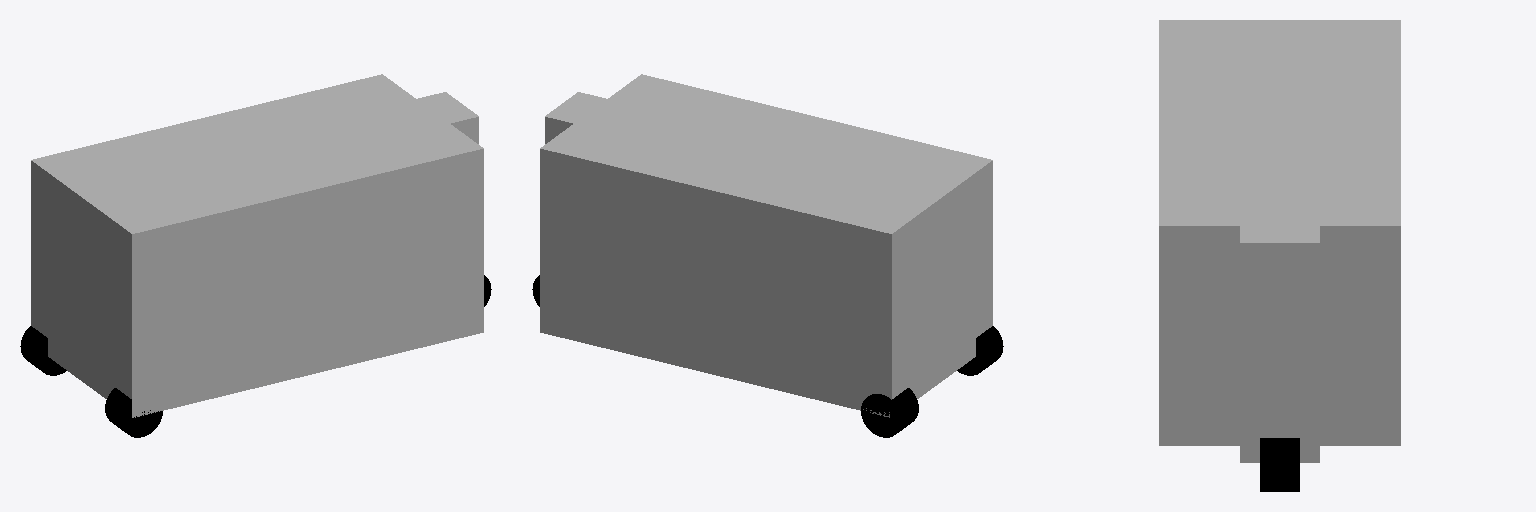
URDF robot description (tortoisebot):
<?xml version="1.0"?>
<robot name="tortoisebot">
<link name="base_link">
    <visual>
      <geometry>
        <box size="0.6 0.3 0.3"/>
      </geometry>
      <material name="silver">
        <color rgba="0.75 0.75 0.75 1"/>
      </material>
    </visual>
    <collision>
      <geometry>
        <box size="0.6 0.3 0.3"/>
      </geometry>
    </collision>
    <inertial>
      <mass value="1.0"/>
      <inertia ixx="0.015" iyy="0.0375" izz="0.0375" ixy="0" ixz="0" iyz="0"/>
    </inertial>
  </link>
 <link name="front_caster">
    <visual>
      <geometry>
        <box size="0.1 0.1 0.3"/>
      </geometry>
      <material name="silver"/>
    </visual>
    <collision>
      <geometry>
        <box size="0.1 0.1 0.3"/>
      </geometry>
    </collision>
    <inertial>
      <mass value="0.1"/>
      <inertia ixx="0.00083" iyy="0.00083" izz="0.000167" ixy="0" ixz="0" iyz="0"/>
    </inertial>
  </link>

<joint name="front_caster_joint" type="continuous">
<axis xyz="0 0 1"/>
<parent link="base_link"/>
<child link="front_caster"/>
<origin rpy="0 0 0" xyz="0.3 0 0"/>
</joint>

 <link name="front_wheel">
    <visual>
      <geometry>
        <cylinder length="0.05" radius="0.035"/>
      </geometry>
      <material name="black"/>
    </visual>
    <collision>
      <geometry>
        <cylinder length="0.05" radius="0.035"/>
      </geometry>
    </collision>
    <inertial>
      <mass value="0.1"/>
      <inertia ixx="5.1458e-5" iyy="5.1458e-5" izz="6.125e-5" ixy="0" ixz="0" iyz="0"/>
    </inertial>
  </link>

  <joint name="front_wheel_joint" type="revolute">
	<limit effort="30" velocity="1.0" lower="-2.2" upper="0.7" />
    <axis xyz="0 0 1"/>
    <parent link="front_caster"/>
    <child link="front_wheel"/>
    <origin rpy="-1.5708 0 0" xyz="0.05 0 -.15"/>
  </joint>

<link name="right_wheel">
    <visual>
      <geometry>
        <cylinder length="0.05" radius="0.035"/>
      </geometry>
      <material name="black">
        <color rgba="0 0 0 1"/>
      </material>
    </visual>
    <collision>
      <geometry>
        <cylinder length="0.05" radius="0.035"/>
      </geometry>
    </collision>
    <inertial>
      <mass value="0.1"/>
      <inertia ixx="5.1458e-5" iyy="5.1458e-5" izz="6.125e-5" ixy="0" ixz="0" iyz="0"/>
    </inertial>
  </link>

  <joint name="right_wheel_joint" type="continuous">
    <axis xyz="0 0 1"/>
    <parent link="base_link"/>
    <child link="right_wheel"/>
    <origin rpy="-1.5708 0 0" xyz="-0.2825 -0.125 -.15"/>
  </joint>

<link name="left_wheel">
    <visual>
      <geometry>
        <cylinder length="0.05" radius="0.035"/>
      </geometry>
      <material name="black">
        <color rgba="0 0 0 1"/>
      </material>
    </visual>
    <collision>
      <geometry>
        <cylinder length="0.05" radius="0.035"/>
      </geometry>
    </collision>
    <inertial>
      <mass value="0.1"/>
      <inertia ixx="5.1458e-5" iyy="5.1458e-5" izz="6.125e-5" ixy="0" ixz="0" iyz="0"/>
    </inertial>
  </link>

  <joint name="left_wheel_joint" type="continuous">
    <axis xyz="0 0 1"/>
    <parent link="base_link"/>
    <child link="left_wheel"/>
    <origin rpy="-1.5708 0 0" xyz="-0.2825 0.125 -.15"/>
  </joint>



  <gazebo>
    <plugin name="differential_drive_controller" filename="libgazebo_ros_diff_drive.so">
      <leftJoint>left_wheel_joint</leftJoint>
      <rightJoint>right_wheel_joint</rightJoint>
      <robotBaseFrame>base_link</robotBaseFrame>
      <wheelSeparation>0.25</wheelSeparation>
      <wheelDiameter>0.07</wheelDiameter>
      <publishWheelJointState>true</publishWheelJointState>
    </plugin>
  </gazebo>

</robot>

--- Facts derived from the render (not from the file) ---
3 views of the same robot in one strip: view 1: azimuth 30°, elevation 25°; view 2: azimuth 150°, elevation 25°; view 3: azimuth 270°, elevation 25° (orthographic).
Robot: tortoisebot — 5 links, 4 joints (1 revolute, 3 continuous); root link base_link; default pose: every joint at zero.
Links seen in each view (by area): view 1: base_link, front_caster, right_wheel, left_wheel; view 2: base_link, left_wheel, front_caster, right_wheel; view 3: base_link, front_caster, front_wheel.
Boxes of the visible links, bbox=[...] form: base_link: bbox=[31, 74, 483, 417]; front_caster: bbox=[408, 92, 478, 143]; right_wheel: bbox=[105, 388, 162, 437]; left_wheel: bbox=[20, 326, 66, 375]; base_link: bbox=[540, 74, 992, 417]; left_wheel: bbox=[861, 388, 918, 437]; front_caster: bbox=[545, 92, 635, 143]; right_wheel: bbox=[957, 326, 1003, 375]; base_link: bbox=[1159, 20, 1400, 445]; front_caster: bbox=[1240, 209, 1319, 462]; front_wheel: bbox=[1260, 438, 1299, 491].
Size in the robot's own frame: 0.7025 by 0.3 by 0.335 metres.
Geometry: primitives only (box / cylinder / sphere), no mesh files.